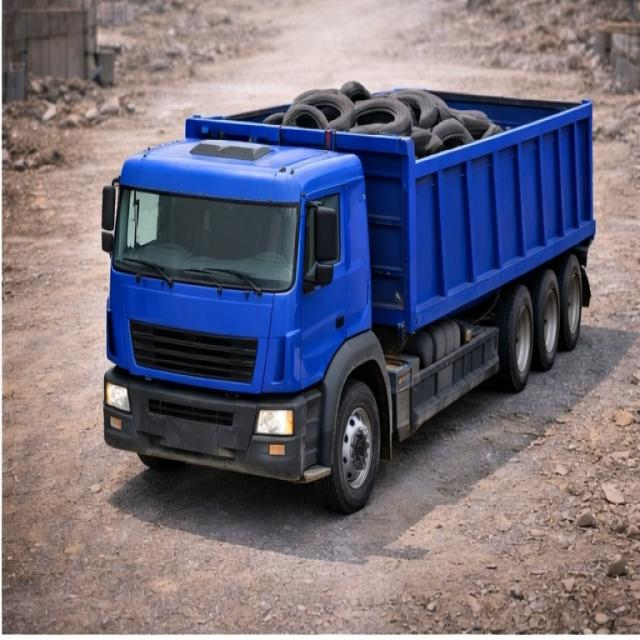trailer: (171, 80, 593, 162)
truck: (100, 73, 606, 496)
